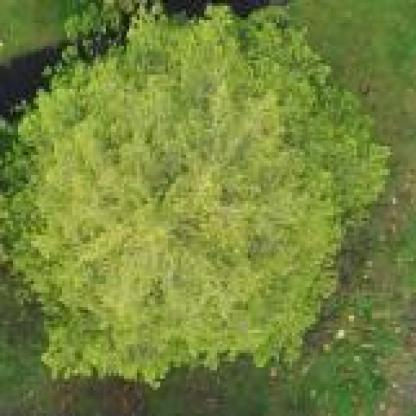Coniferous Tree: (0, 0, 388, 370)
